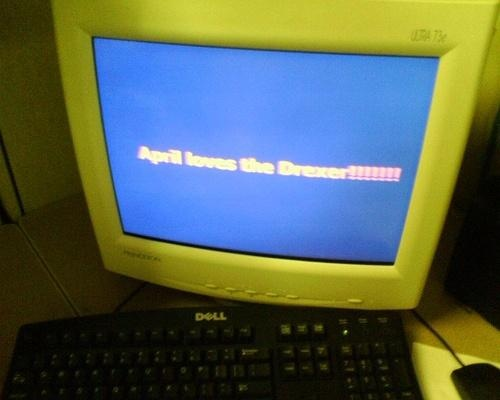tvmonitor: (48, 1, 500, 312)
